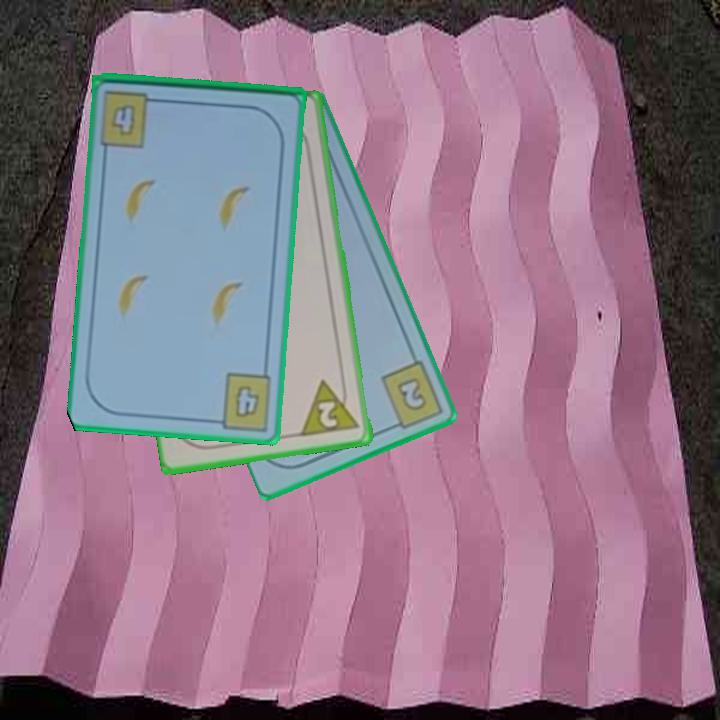2b: (377, 357, 446, 434)
2p: (298, 374, 363, 440)
4b: (208, 370, 275, 432), (108, 101, 139, 140)
